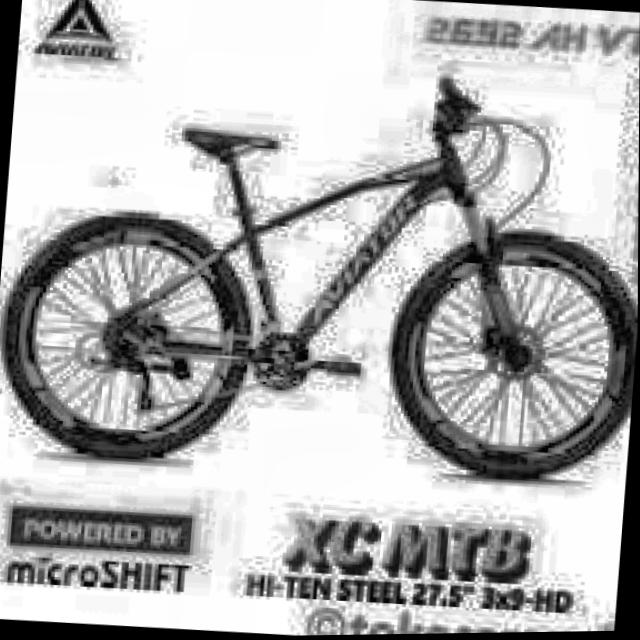motorcycle: (0, 49, 640, 503)
